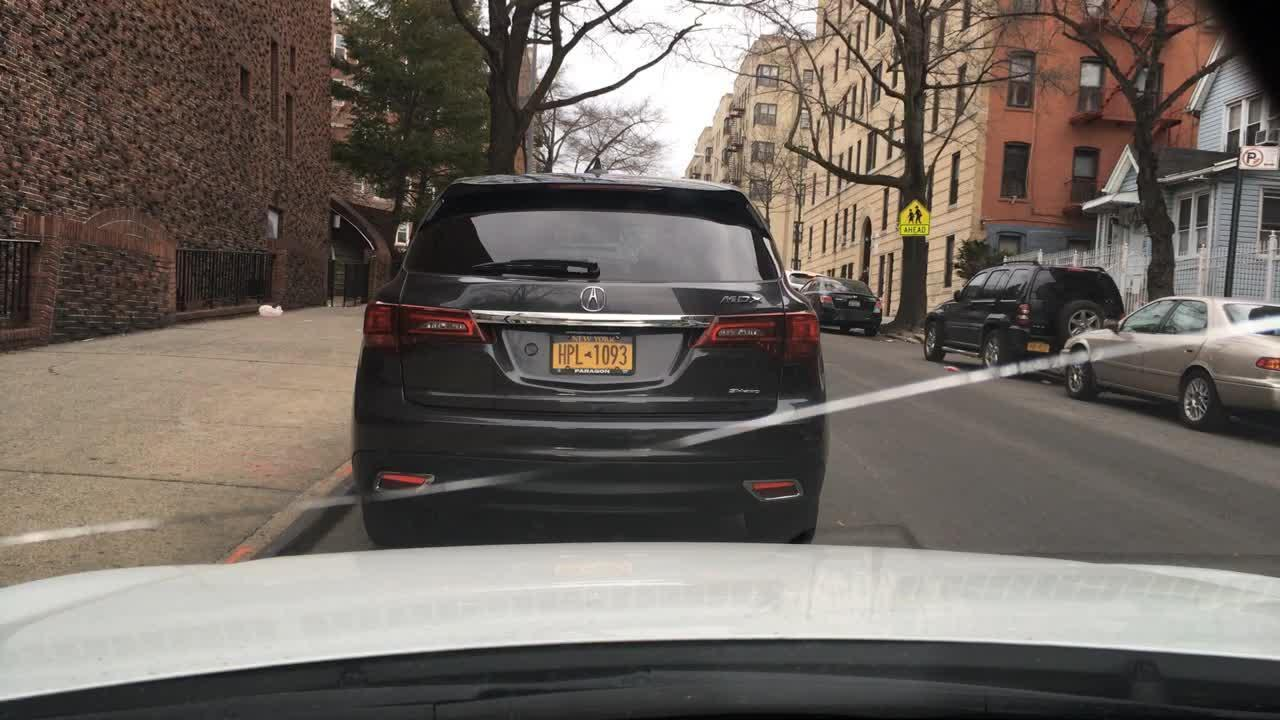acura: (578, 282, 609, 314)
